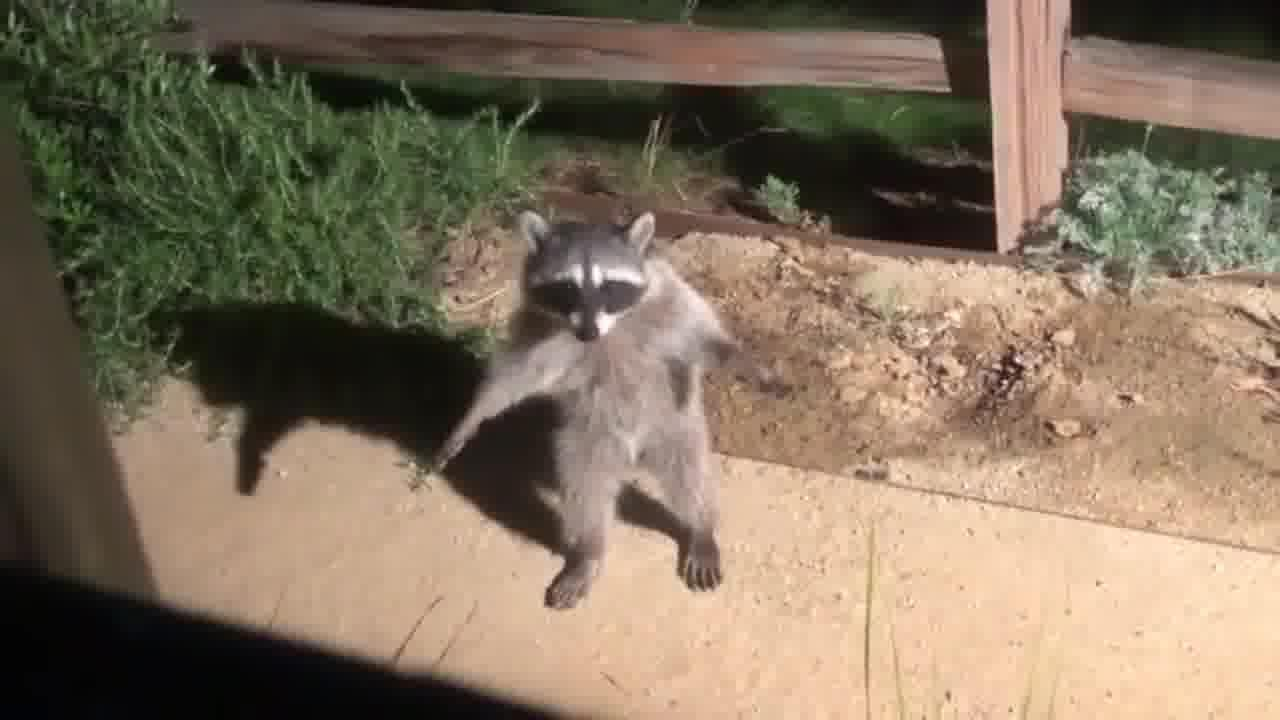raccoon: (414, 205, 798, 614)
